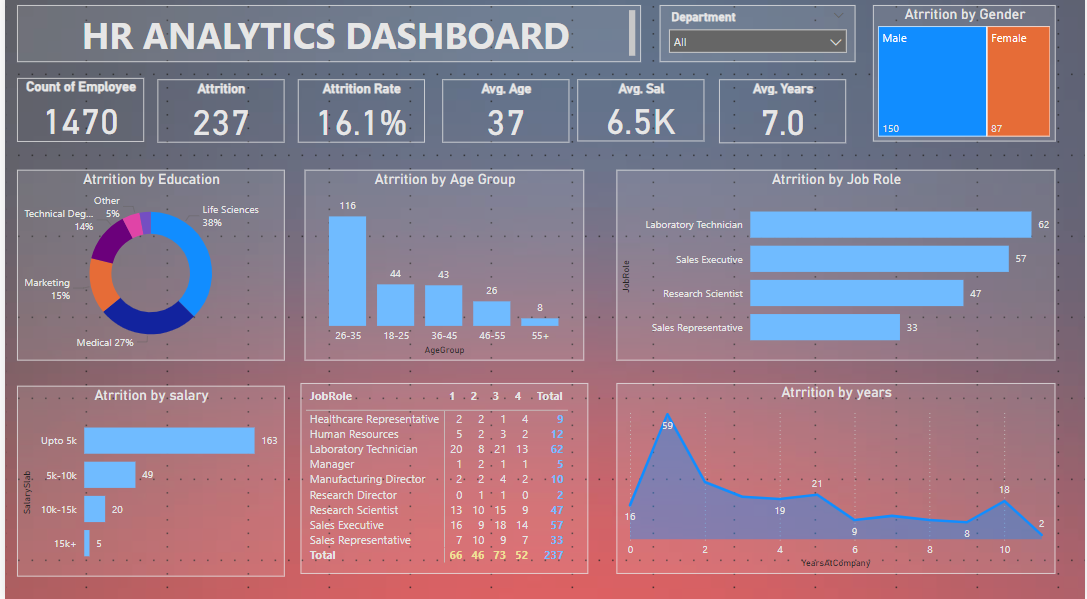

This screenshot's page, from the dashboard's own definition file:
{"tool":"powerbi","page":{"name":"Page 1","canvas":[1280,720],"ordinal":0},"visuals":[{"type":"card","title":"Count of Employee","fields":{"Values":["Sum(HR_Analytics.EmployeeCount)"]},"box":[14.6,101.2,150.4,75.2],"z":0},{"type":"card","title":"Attrition","fields":{"Values":["Sum(HR_Analytics.Atrritioncount)"]},"box":[181,102.8,150,75],"z":1000},{"type":"card","title":"Attrition Rate","fields":{"Values":["HR_Analytics.Atrrition rate"]},"box":[347.4,102.8,150,75],"z":2000},{"type":"card","title":"Avg. Age","fields":{"Values":["Avg(HR_Analytics.Age)"]},"box":[518.6,102.8,150.4,75],"z":3000},{"type":"card","title":"Avg. Years","fields":{"Values":["Avg(HR_Analytics.YearsAtCompany)"]},"box":[846.6,102.8,150.4,75.2],"z":4000},{"type":"card","title":"Avg. Sal","fields":{"Values":["Avg(HR_Analytics.MonthlyIncome)"]},"box":[678.6,102.8,150.4,73.6],"z":5000},{"type":"donutChart","title":"Atrrition by Education","fields":{"Category":["HR_Analytics.EducationField"],"Y":["Sum(HR_Analytics.Atrritioncount)"]},"box":[14.4,209.6,316.8,225.6],"z":6000},{"type":"columnChart","title":"Atrrition by Age Group","fields":{"Category":["HR_Analytics.AgeGroup"],"Y":["Sum(HR_Analytics.Atrritioncount)"]},"box":[355.2,209.6,331.2,225.6],"z":7000},{"type":"pivotTable","fields":{"Rows":["HR_Analytics.JobRole"],"Columns":["HR_Analytics.JobSatisfaction"],"Values":["Sum(HR_Analytics.Atrritioncount)"]},"box":[350.4,462.4,340.8,225.6],"z":8000},{"type":"barChart","title":"Atrrition by salary","fields":{"Y":["Sum(HR_Analytics.Atrritioncount)"],"Category":["HR_Analytics.SalarySlab"]},"box":[14.4,465.6,316.8,225.6],"z":9000},{"type":"barChart","title":"Atrrition by Job Role","fields":{"Y":["Sum(HR_Analytics.Atrritioncount)"],"Category":["HR_Analytics.JobRole"]},"box":[724.8,209.6,520,225.6],"z":10000},{"type":"areaChart","title":"Atrrition by years","fields":{"Y":["Sum(HR_Analytics.Atrritioncount)"],"Category":["HR_Analytics.YearsAtCompany"]},"box":[724.8,462.4,520,225.6],"z":11000},{"type":"treemap","title":"Atrrition by Gender","fields":{"Group":["HR_Analytics.Gender"],"Values":["Sum(HR_Analytics.Atrritioncount)"]},"box":[1028.8,14.4,216,161.6],"z":12000},{"type":"slicer","fields":{"Values":["HR_Analytics.Department"]},"box":[776,14.4,232,67.2],"z":13000},{"type":"textbox","box":[14.4,14.4,739.2,67.2],"z":14000}]}

Visuals, with their boxes in screenshot pixels (x1, y1, x2, y2), scaled from the page's 1280x720 canvas onto the 1087x599 screenshot:
"Count of Employee" card: (x1=12, y1=84, x2=140, y2=147)
"Attrition" card: (x1=154, y1=86, x2=281, y2=148)
"Attrition Rate" card: (x1=295, y1=86, x2=422, y2=148)
"Avg. Age" card: (x1=440, y1=86, x2=568, y2=148)
"Avg. Years" card: (x1=719, y1=86, x2=847, y2=148)
"Avg. Sal" card: (x1=576, y1=86, x2=704, y2=147)
"Atrrition by Education" donutChart: (x1=12, y1=174, x2=281, y2=362)
"Atrrition by Age Group" columnChart: (x1=302, y1=174, x2=583, y2=362)
pivotTable - HR_Analytics.JobRole x HR_Analytics.JobSatisfaction: (x1=298, y1=385, x2=587, y2=572)
"Atrrition by salary" barChart: (x1=12, y1=387, x2=281, y2=575)
"Atrrition by Job Role" barChart: (x1=616, y1=174, x2=1057, y2=362)
"Atrrition by years" areaChart: (x1=616, y1=385, x2=1057, y2=572)
"Atrrition by Gender" treemap: (x1=874, y1=12, x2=1057, y2=146)
slicer - HR_Analytics.Department: (x1=659, y1=12, x2=856, y2=68)
textbox: (x1=12, y1=12, x2=640, y2=68)
